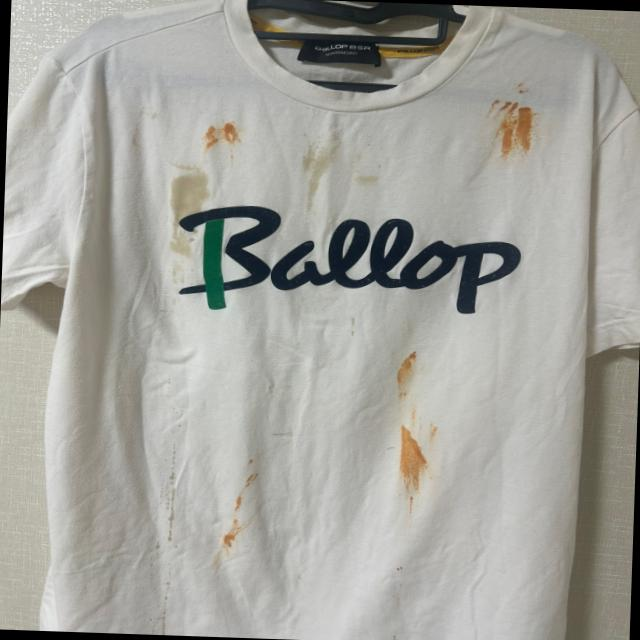stain: (168, 162, 204, 255), (397, 425, 429, 524), (487, 96, 535, 158), (298, 148, 328, 212), (201, 119, 242, 152), (164, 450, 178, 543), (395, 351, 418, 399), (158, 583, 173, 635), (170, 260, 188, 288), (222, 526, 239, 551), (234, 476, 244, 514), (357, 172, 378, 188), (512, 81, 532, 97), (246, 458, 256, 485), (407, 402, 418, 424), (428, 424, 438, 444), (152, 540, 162, 554), (396, 566, 405, 575), (392, 633, 398, 640)
